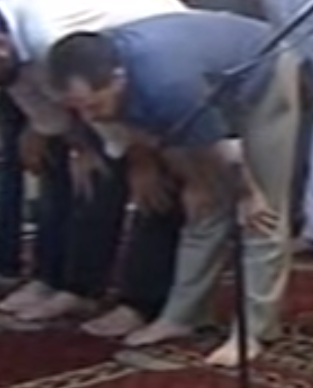ruku: (50, 11, 309, 365)
